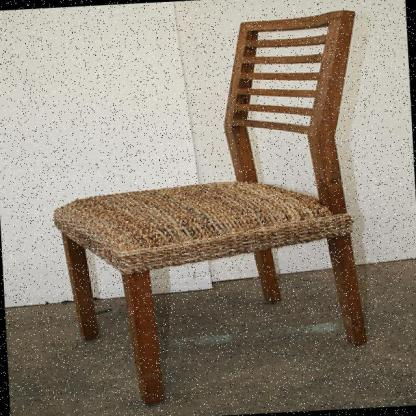Chair: (20, 0, 390, 416)
